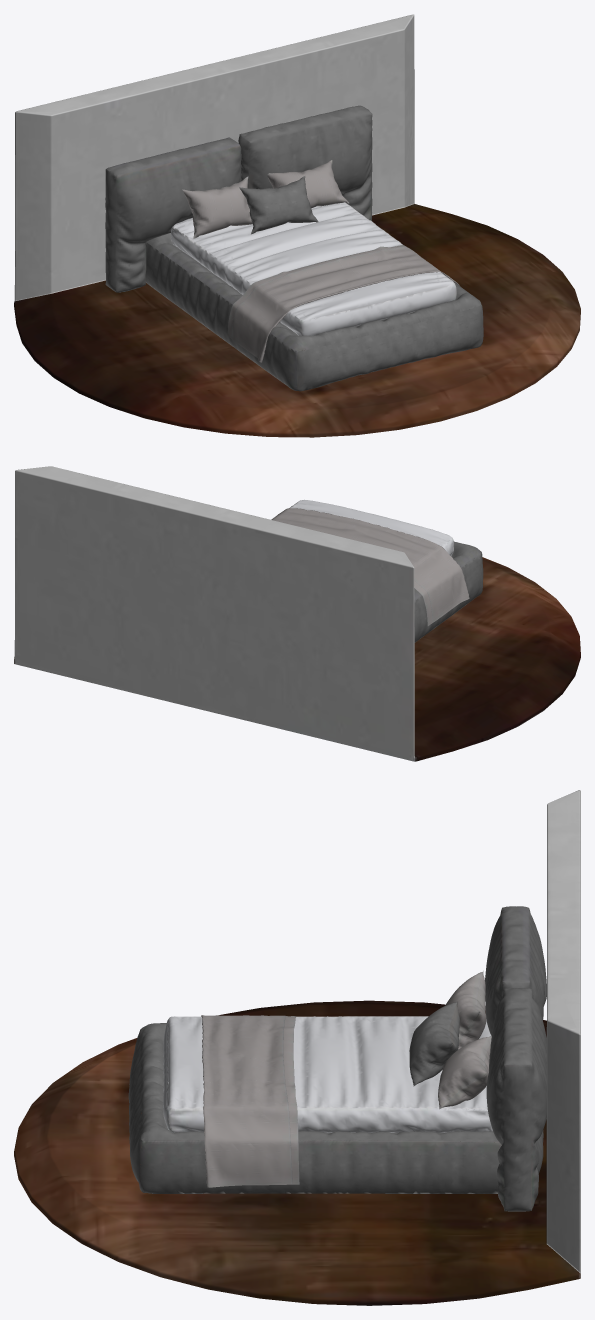
File: objaverse-king-floor-bed.optimized.glb
3 renders of one model, top to bottom at view 1: azimuth 30°, elevation 25°; view 2: azimuth 150°, elevation 25°; view 3: azimuth 270°, elevation 25°, orthographic. The views are drawn at different scales.
Parts seen in each view (by area): view 1: defaultMaterial; view 2: defaultMaterial; view 3: defaultMaterial.
Part boxes in pixels (box(x1,y1,x2,y2)): defaultMaterial: box(14, 14, 580, 437); defaultMaterial: box(14, 466, 580, 761); defaultMaterial: box(14, 790, 580, 1305).
Size of the model in its own units: 2 by 0.7577 by 1.6.
1 material, 1 textured.
